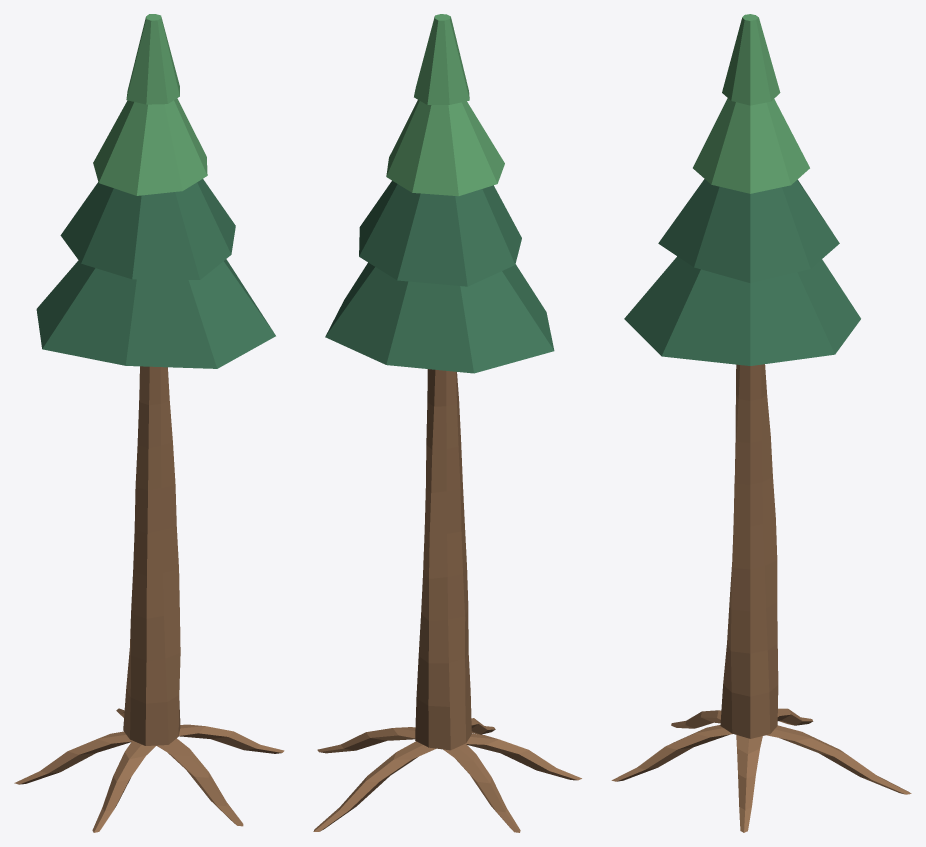
Rendered from tree_pine_small.glb.
The picture shows the model from 3 angles, left to right: view 1: azimuth 30°, elevation 25°; view 2: azimuth 150°, elevation 25°; view 3: azimuth 270°, elevation 25°; orthographic projection.
Parts seen in each view (by area): view 1: Tree_Pine_Small_Top, Tree_Pine_Small_Base; view 2: Tree_Pine_Small_Top, Tree_Pine_Small_Base; view 3: Tree_Pine_Small_Top, Tree_Pine_Small_Base.
Part boxes in pixels (x1,y1,x2,y2): Tree_Pine_Small_Top: (36, 14, 275, 368); Tree_Pine_Small_Base: (14, 366, 284, 832); Tree_Pine_Small_Top: (325, 14, 554, 373); Tree_Pine_Small_Base: (313, 369, 581, 832); Tree_Pine_Small_Top: (624, 14, 860, 365); Tree_Pine_Small_Base: (611, 364, 911, 832).
Size of the model in its own units: 3.29 by 10 by 3.62.
